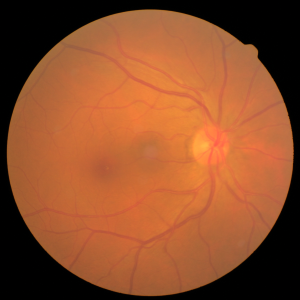cataract: (67, 92, 265, 213)
